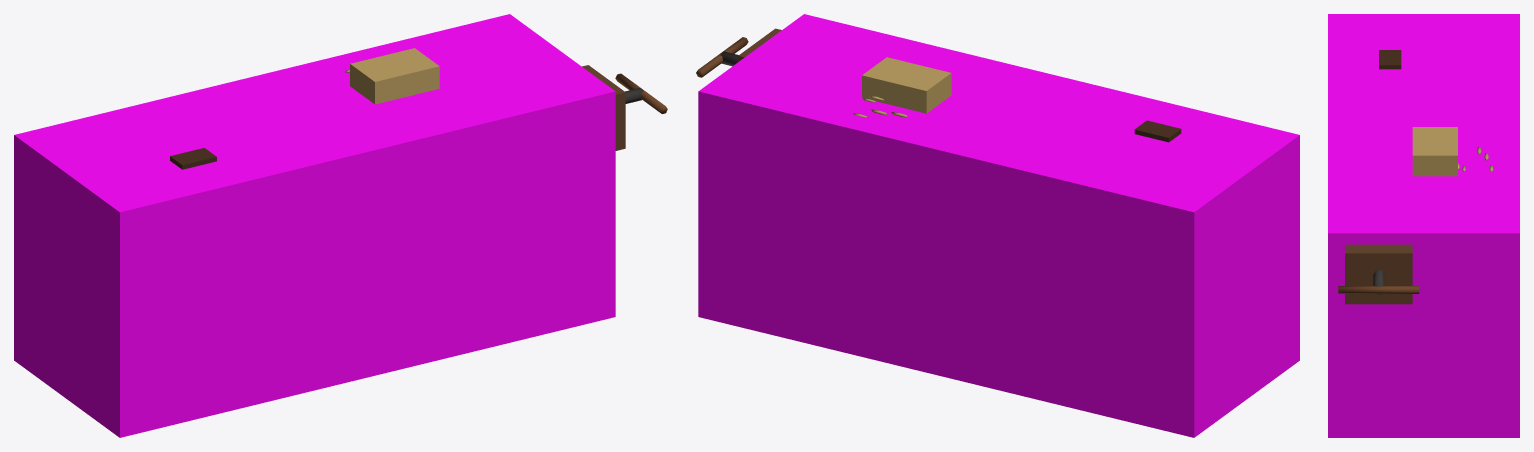
The model's file is PRP_Workbench_Artisan_A.glb.
The picture shows the model from 3 angles, left to right: view 1: azimuth 30°, elevation 25°; view 2: azimuth 150°, elevation 25°; view 3: azimuth 270°, elevation 25°; orthographic projection. The views are drawn at different scales.
Parts seen in each view (by area): view 1: COL_Bench, PRP_Workbench_Artisan_A_Mesh; view 2: COL_Bench, PRP_Workbench_Artisan_A_Mesh; view 3: COL_Bench, PRP_Workbench_Artisan_A_Mesh.
Part boxes in pixels (bbox=[...]): COL_Bench: bbox=[14, 14, 615, 437]; PRP_Workbench_Artisan_A_Mesh: bbox=[170, 48, 667, 169]; COL_Bench: bbox=[698, 14, 1299, 437]; PRP_Workbench_Artisan_A_Mesh: bbox=[696, 28, 1181, 142]; COL_Bench: bbox=[1328, 14, 1519, 437]; PRP_Workbench_Artisan_A_Mesh: bbox=[1338, 50, 1493, 304].
Size of the model in its own units: 2.57 by 1.1 by 0.85.
